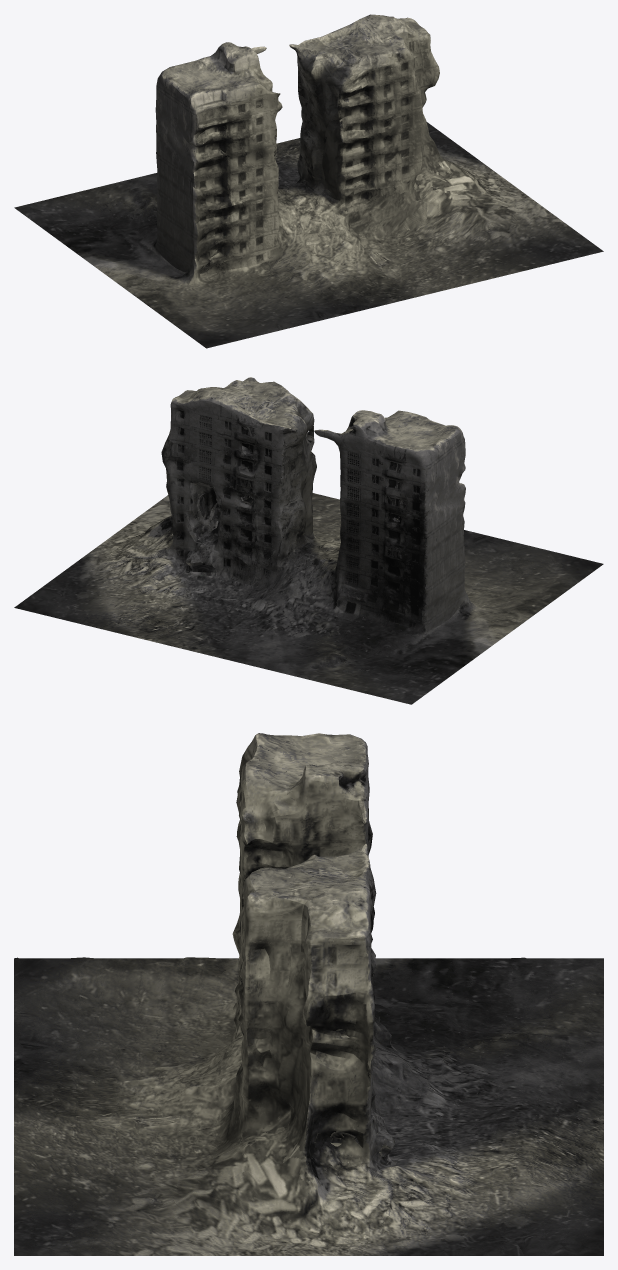
Rendered from house_1.gltf.
3 views of the same model, one above another, from view 1: azimuth 30°, elevation 25°; view 2: azimuth 150°, elevation 25°; view 3: azimuth 270°, elevation 25° (orthographic). The views are drawn at different scales.
Visible parts, largest first — view 1: Remesh Color Centered - 1; view 2: Remesh Color Centered - 1; view 3: Remesh Color Centered - 1.
Boxes of the visible parts, x1,y1,x2,y2 form: Remesh Color Centered - 1: (14, 14, 603, 348); Remesh Color Centered - 1: (14, 377, 603, 704); Remesh Color Centered - 1: (14, 733, 603, 1255).
Bounding box in the file's own units: 1 × 0.4737 × 0.8381.
Materials: 1 (1 with a texture image).
